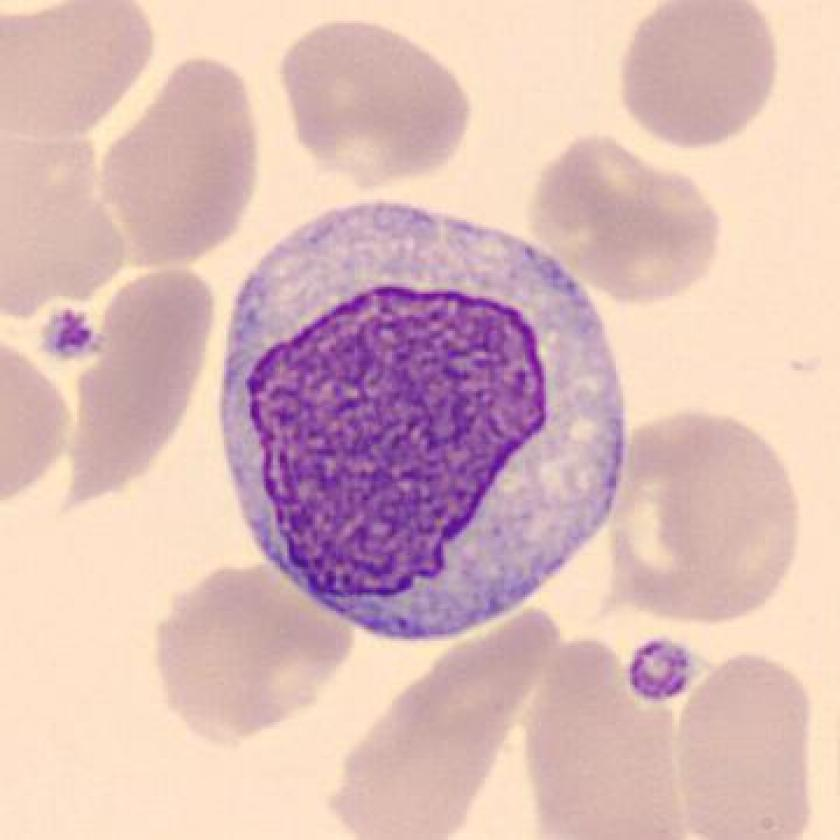monocyte: (199, 177, 652, 667)
